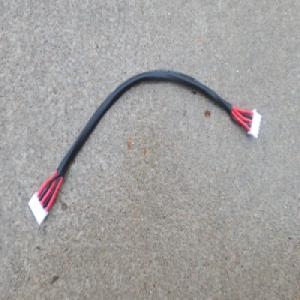Wire: (26, 67, 262, 226)
